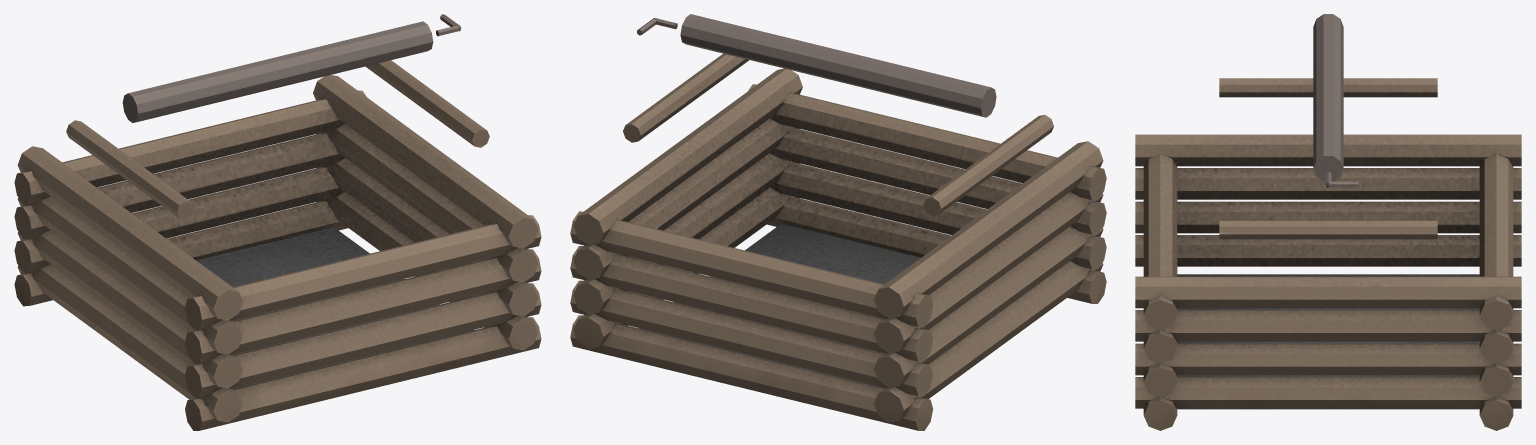
File: geology_shaft.glb
The picture shows the model from 3 angles, left to right: view 1: azimuth 30°, elevation 25°; view 2: azimuth 150°, elevation 25°; view 3: azimuth 270°, elevation 25°; orthographic projection. The views are drawn at different scales.
Parts seen in each view (by area): view 1: geology_shaft; view 2: geology_shaft; view 3: geology_shaft.
Boxes of the visible parts, <box> form: geology_shaft: <box>14,14,541,430</box>; geology_shaft: <box>570,14,1106,430</box>; geology_shaft: <box>1135,14,1521,430</box>.
Bounding box in the file's own units: 2.39 × 1.74 × 2.3.
Materials: 1 (1 with a texture image).
